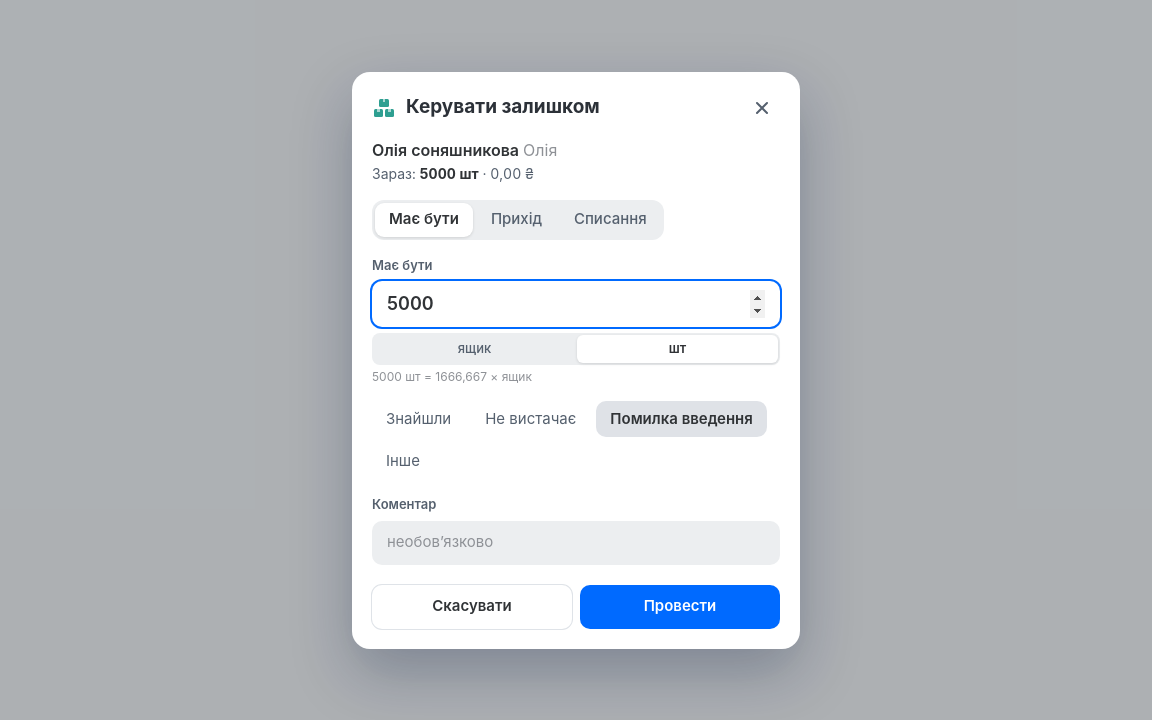
Test: a variant that arrives in bottles › refuses a number of packs that is not a whole number of base units
This screenshot has width=1152, height=720.
Click the button "Прихід" at {"x": 516, "y": 220}, box [477, 202, 556, 236]
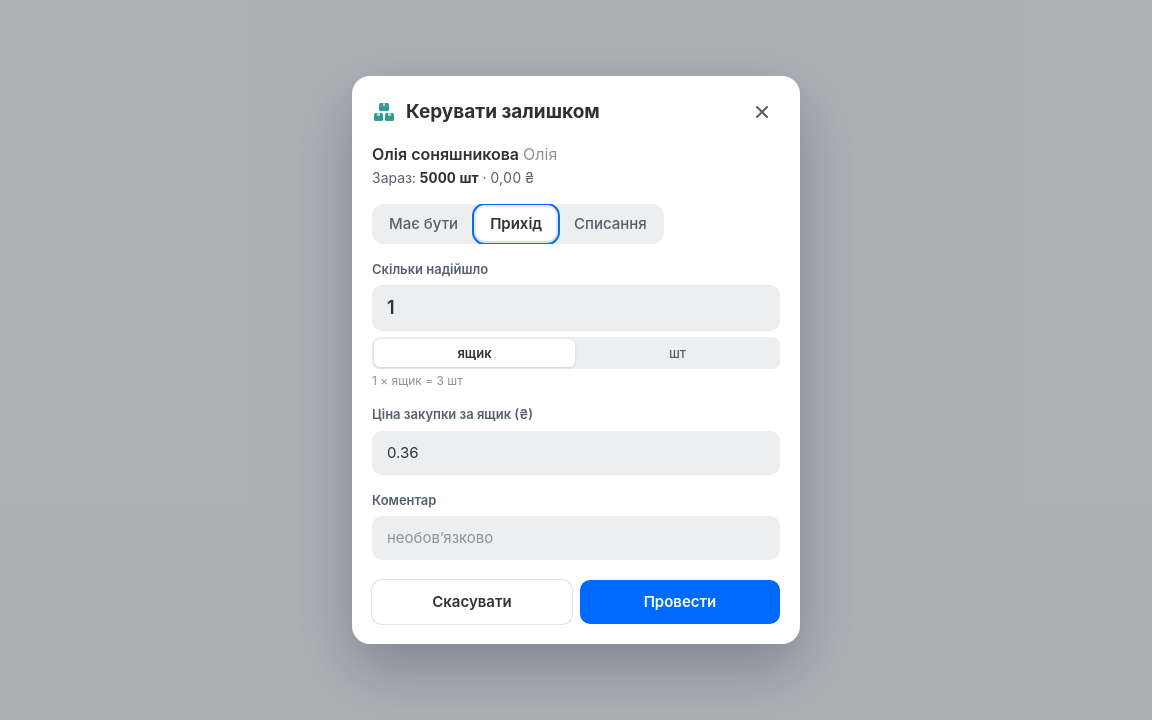
Replace the text in the number field labelled "Скільки надійшло" with "1.5" at {"x": 576, "y": 308}, box [372, 285, 780, 331]
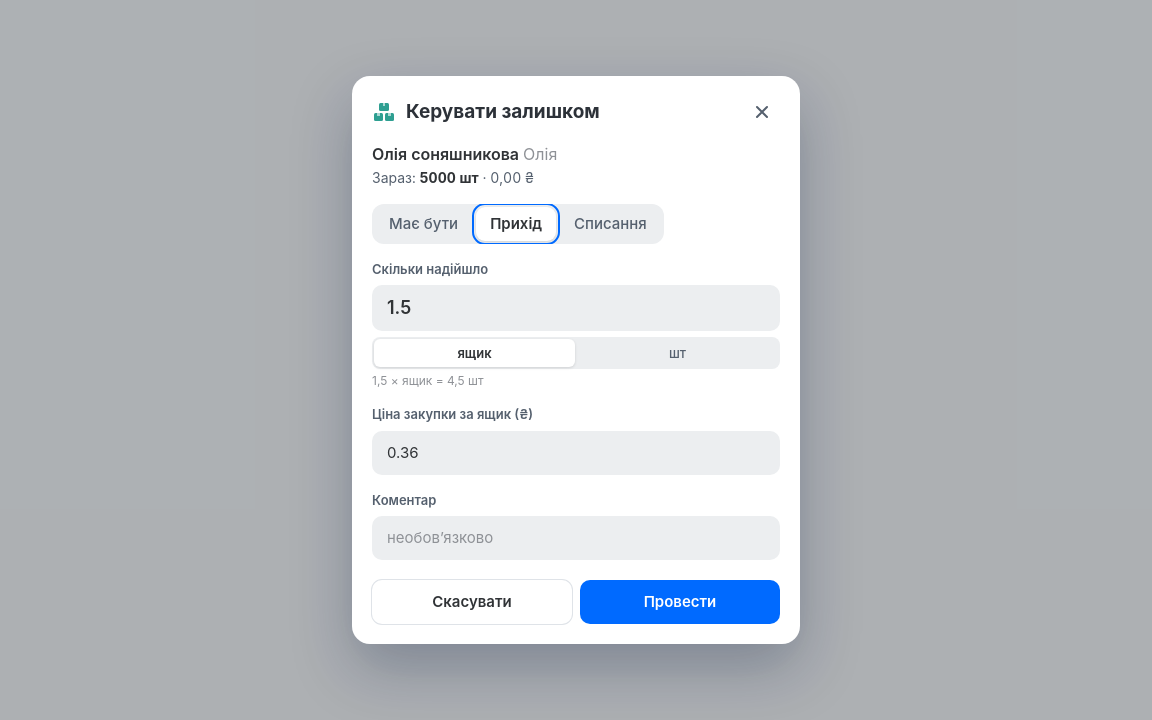
Click the button "Провести" at {"x": 680, "y": 602}, box [580, 580, 780, 624]
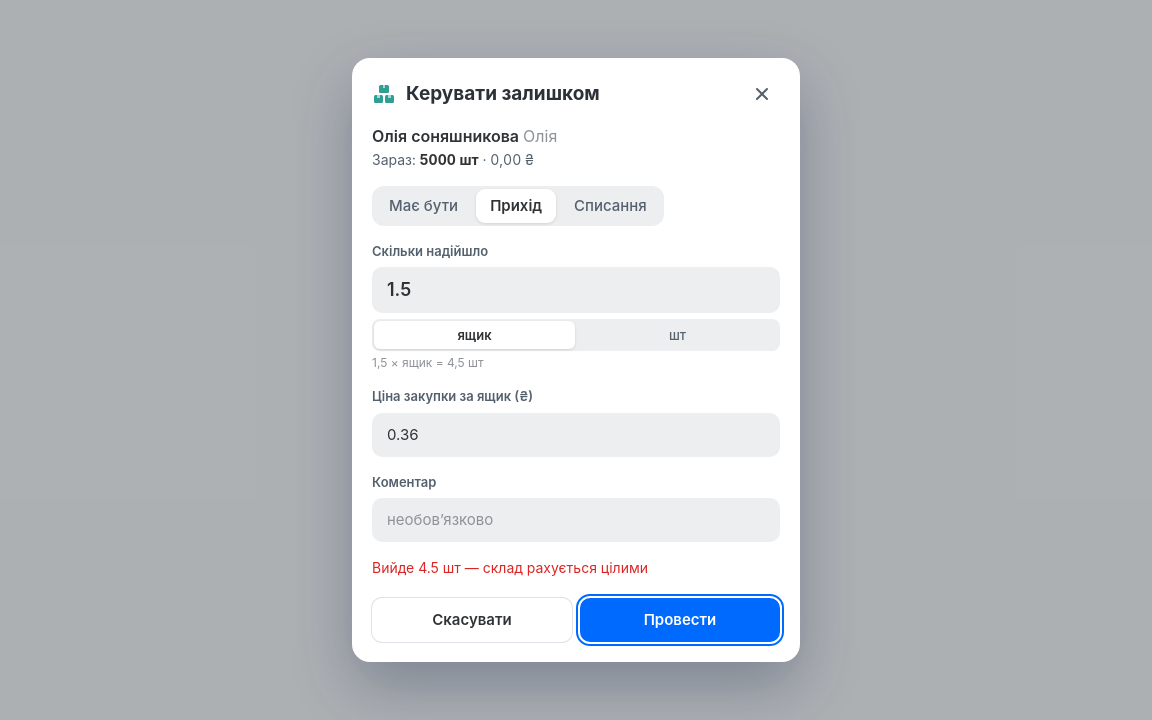
Result: the text "Вийде 4.5 шт — склад рахується цілими" is shown at [372, 559, 648, 576]
